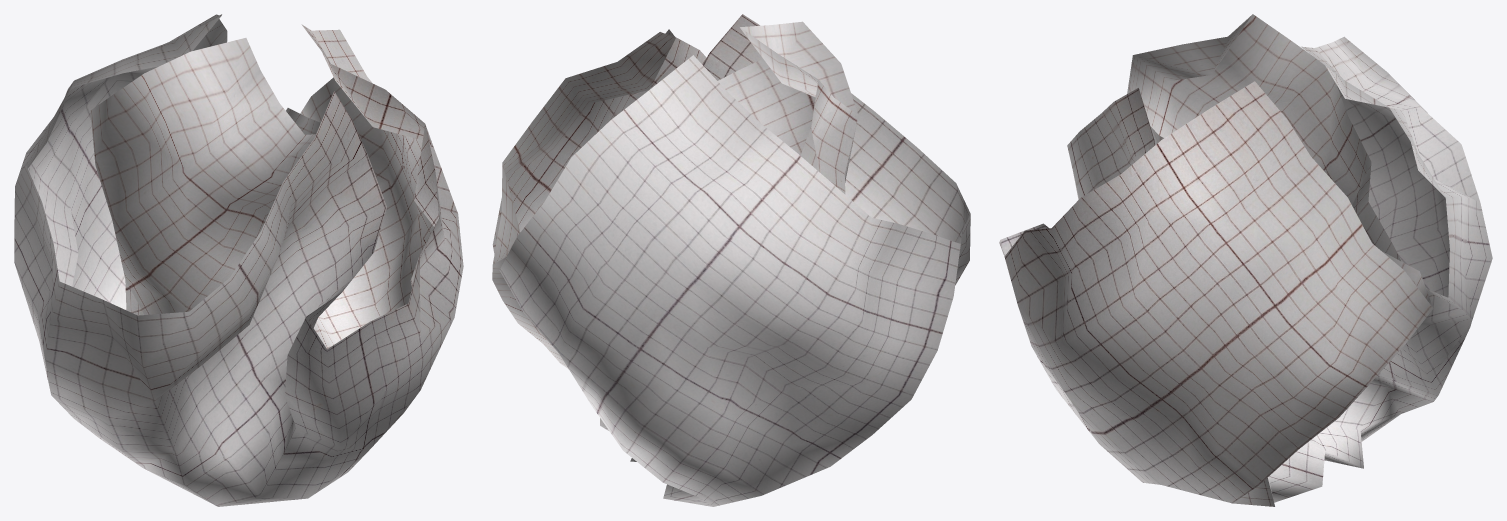
Rendered from paper_single.glb.
3 views of the same model, side by side, from view 1: azimuth 30°, elevation 25°; view 2: azimuth 150°, elevation 25°; view 3: azimuth 270°, elevation 25° (orthographic).
Visible parts, largest first — view 1: Plane_0; view 2: Plane_0; view 3: Plane_0.
Part boxes in pixels (<box>): Plane_0: <box>14,14,463,506</box>; Plane_0: <box>492,14,970,506</box>; Plane_0: <box>999,14,1492,506</box>.
Bounding box in the file's own units: 3.17 × 3.43 × 3.36.
Materials: 1 (1 with a texture image).
